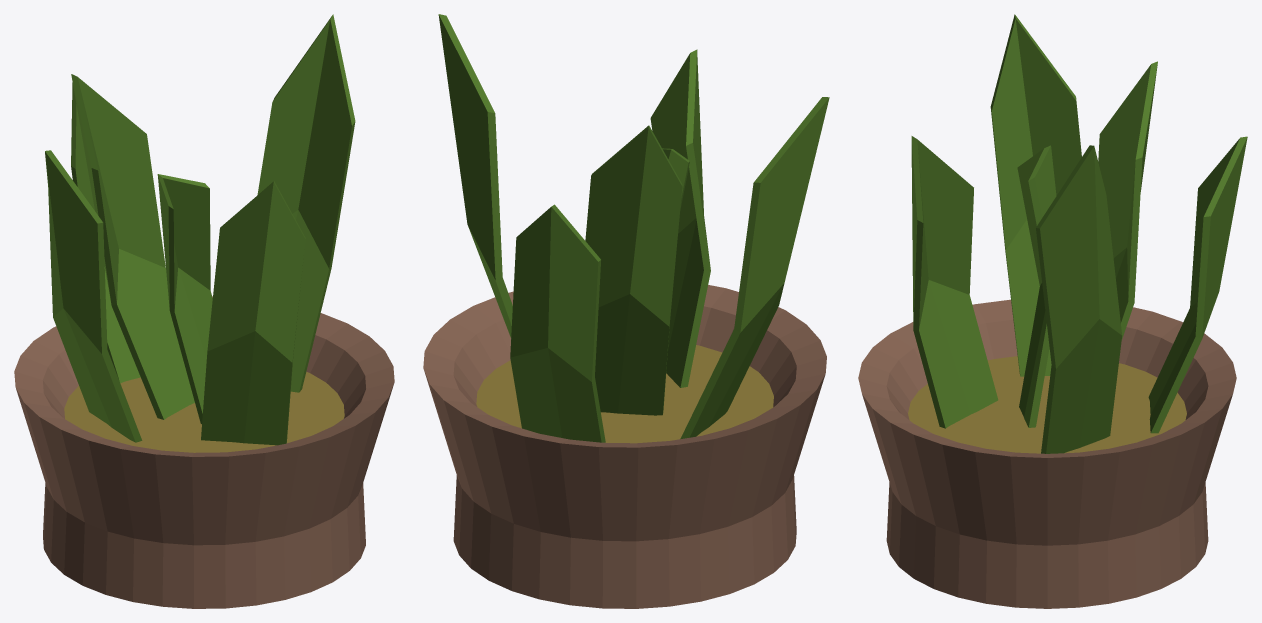
File: plant.fbx
3 renders of one model, left to right at view 1: azimuth 30°, elevation 25°; view 2: azimuth 150°, elevation 25°; view 3: azimuth 270°, elevation 25°, orthographic. The views are drawn at different scales.
Visible parts, largest first — view 1: Plane; view 2: Plane; view 3: Plane.
Boxes of the visible parts, left/top/right/bottom form: Plane: left=14, top=14, right=394, bottom=608; Plane: left=423, top=14, right=829, bottom=608; Plane: left=858, top=14, right=1247, bottom=608.
Size of the model in its own units: 243 by 322 by 242.
